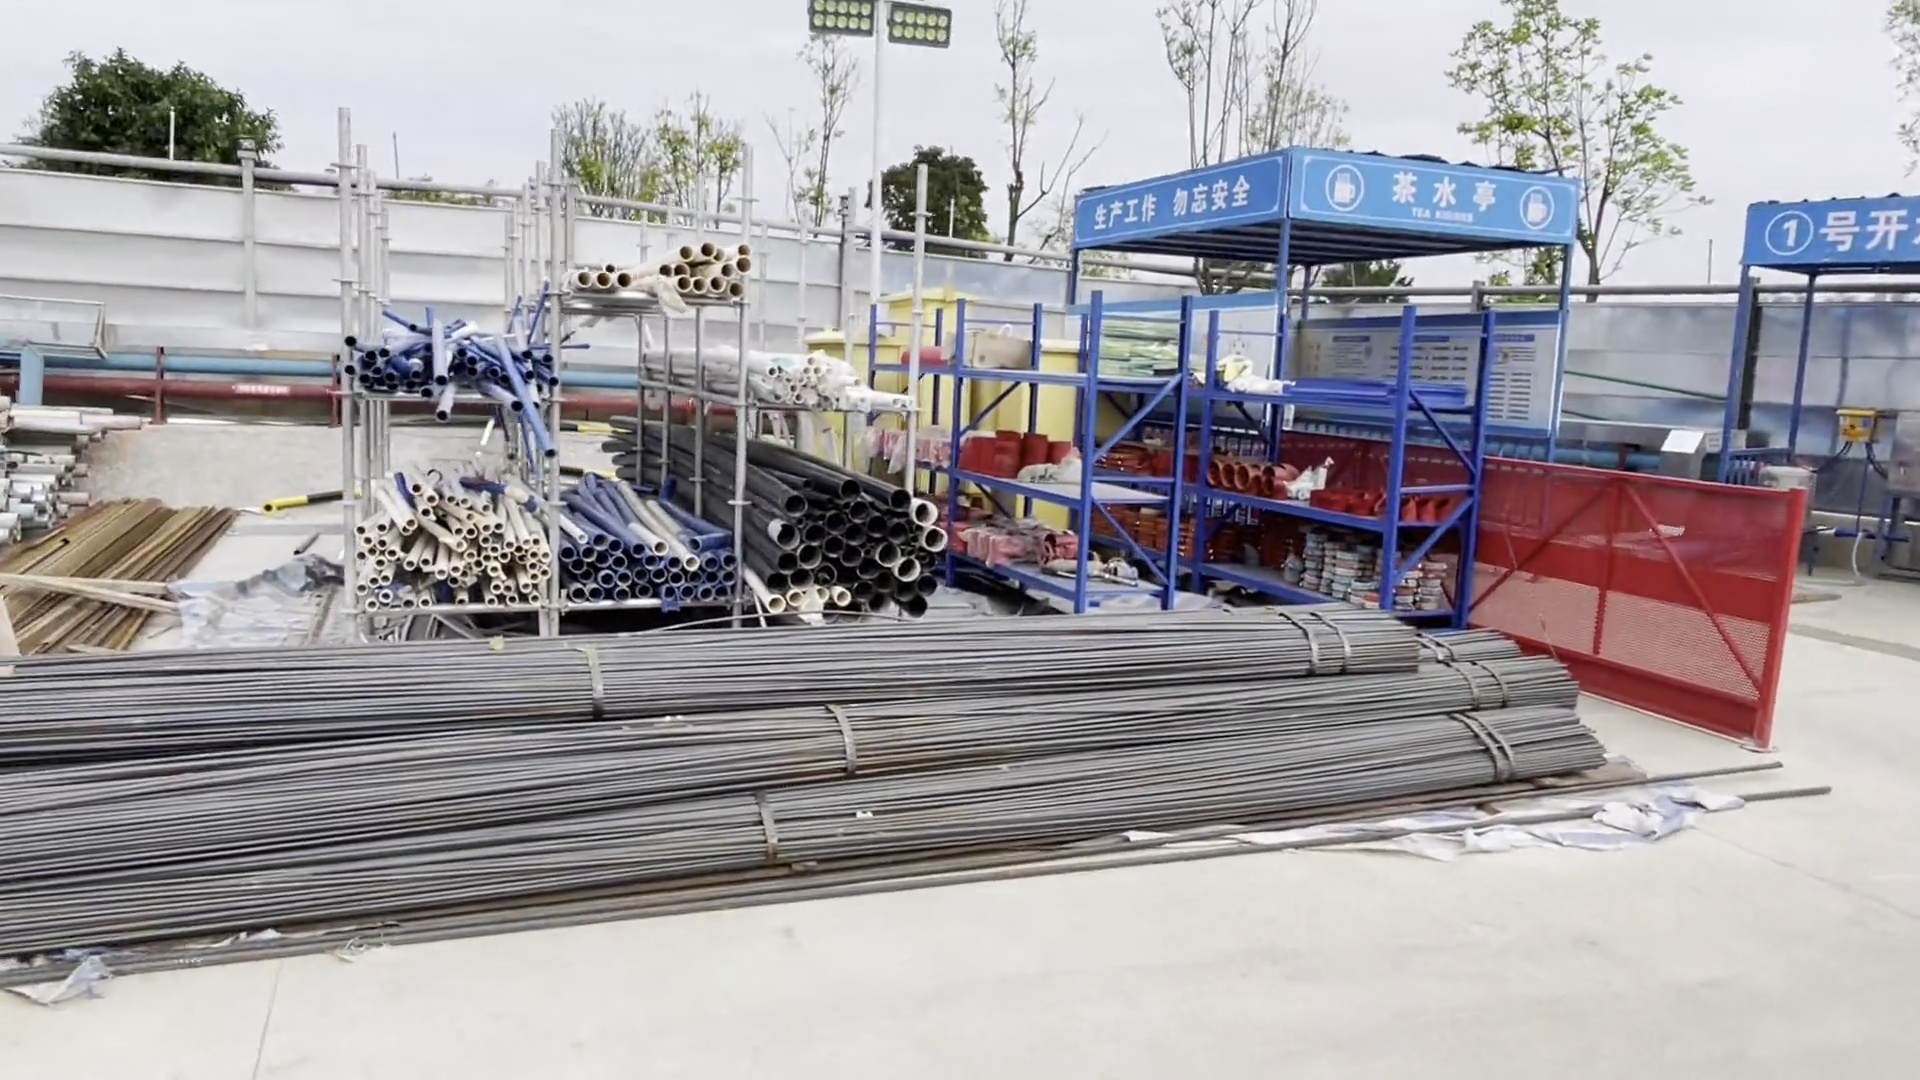ebox: (803, 284, 1079, 472), (1837, 404, 1884, 450)
fence: (1478, 465, 1787, 735)
rebar: (1, 593, 1598, 955)
slogan: (1071, 156, 1284, 247)
